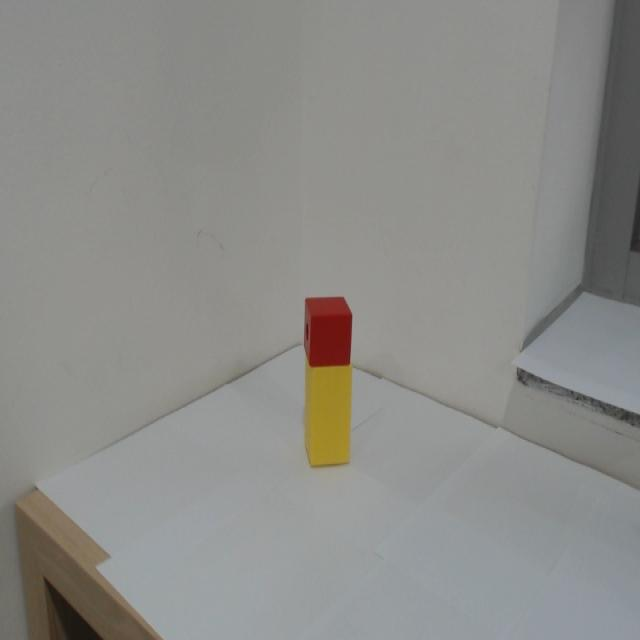cube: (293, 291, 359, 371)
